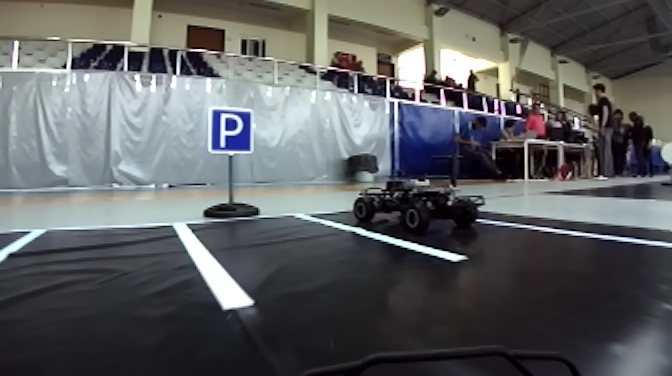park: (207, 105, 257, 158)
